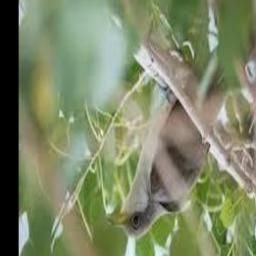Cuckoo: (107, 44, 228, 239)
